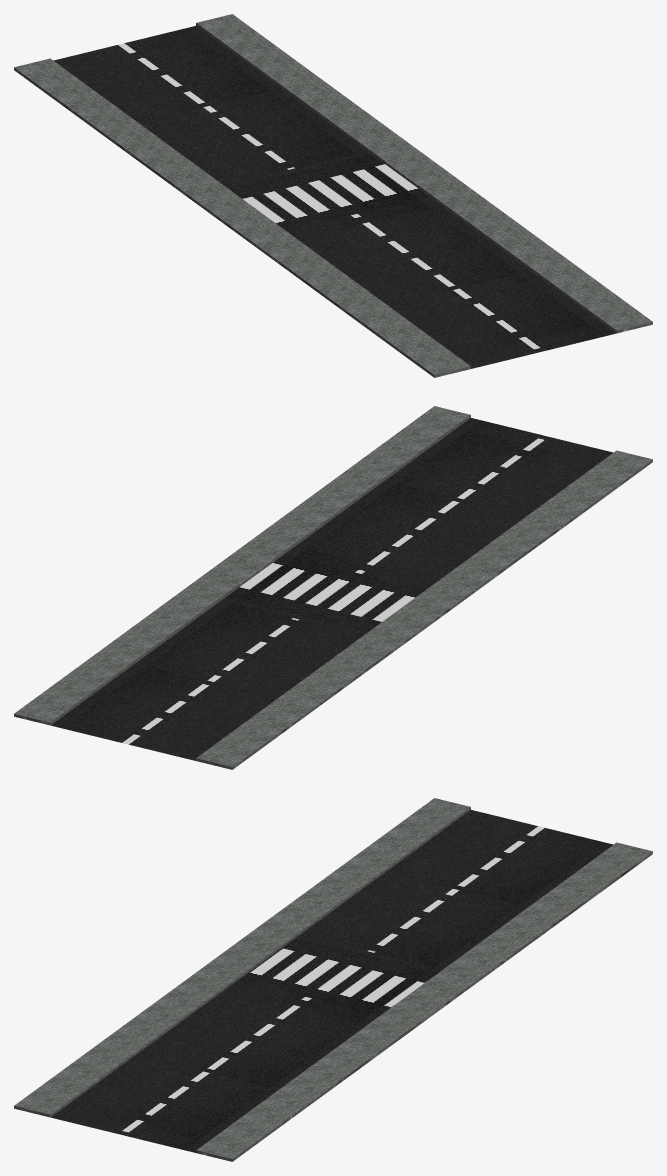
3 renders of one model, top to bottom at view 1: azimuth 30°, elevation 25°; view 2: azimuth 150°, elevation 25°; view 3: azimuth 330°, elevation 25°, orthographic.
Visible parts, largest first — view 1: crosswalk_dashed; view 2: crosswalk_dashed; view 3: crosswalk_dashed.
Boxes of the visible parts, bbox=[...] form: crosswalk_dashed: bbox=[14, 14, 652, 377]; crosswalk_dashed: bbox=[14, 406, 652, 769]; crosswalk_dashed: bbox=[14, 798, 652, 1161].
Size of the model in its own units: 1200 by 15 by 4000.
1 material, 1 textured.
